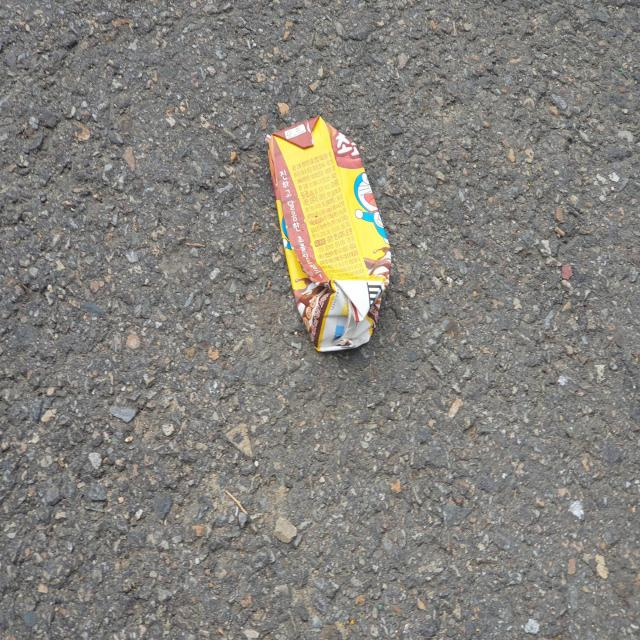paperpack: (266, 116, 391, 351)
